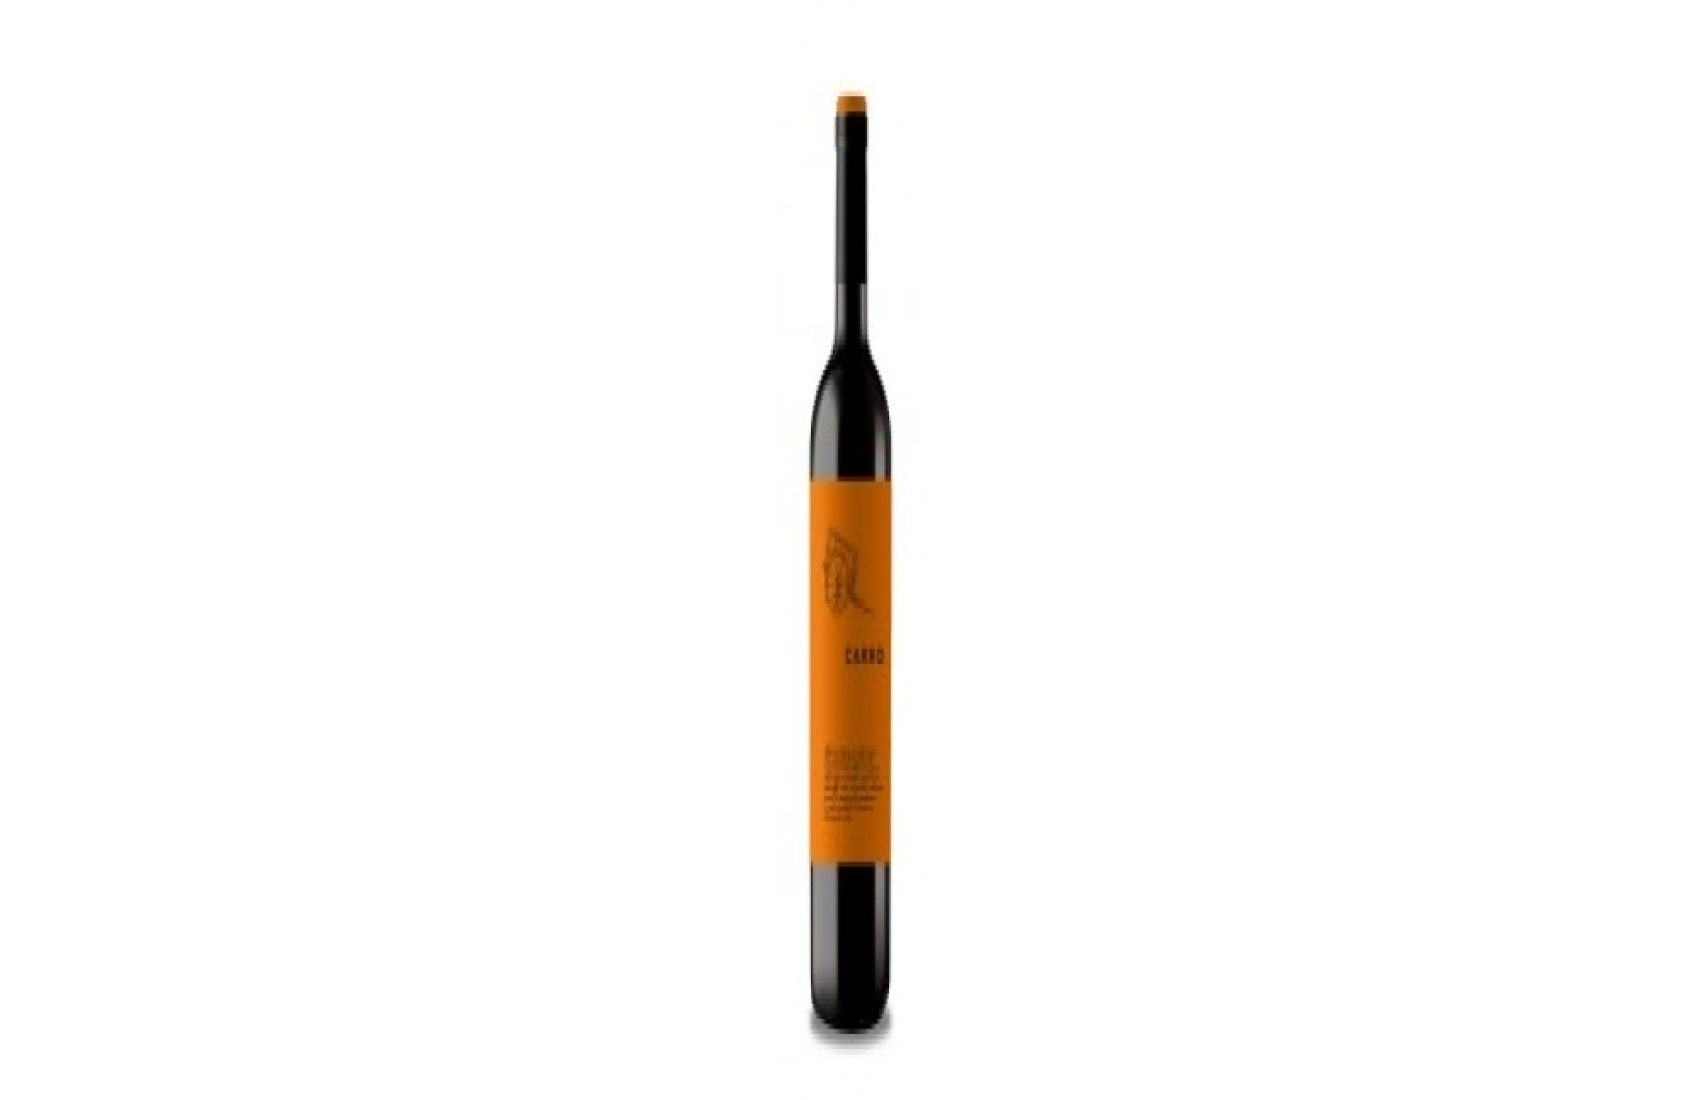wine: (805, 134, 898, 1029)
